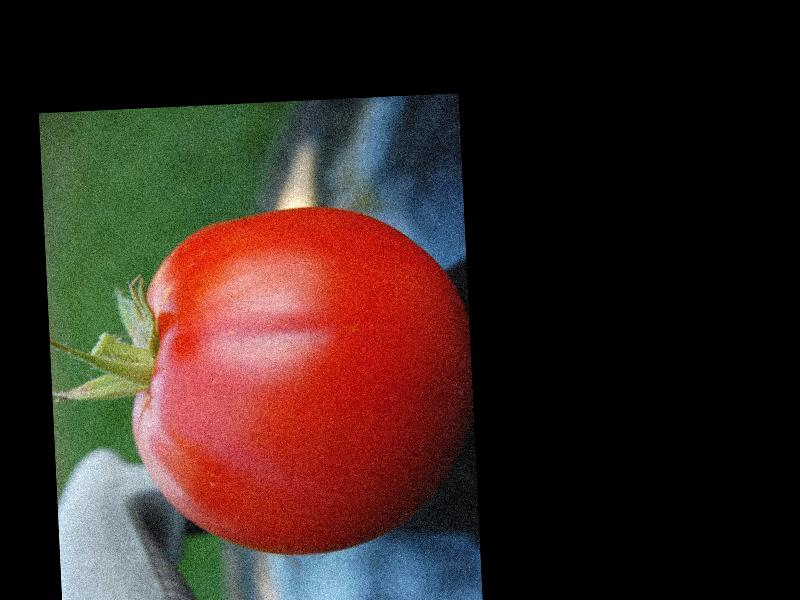Tomato: (122, 199, 480, 563)
